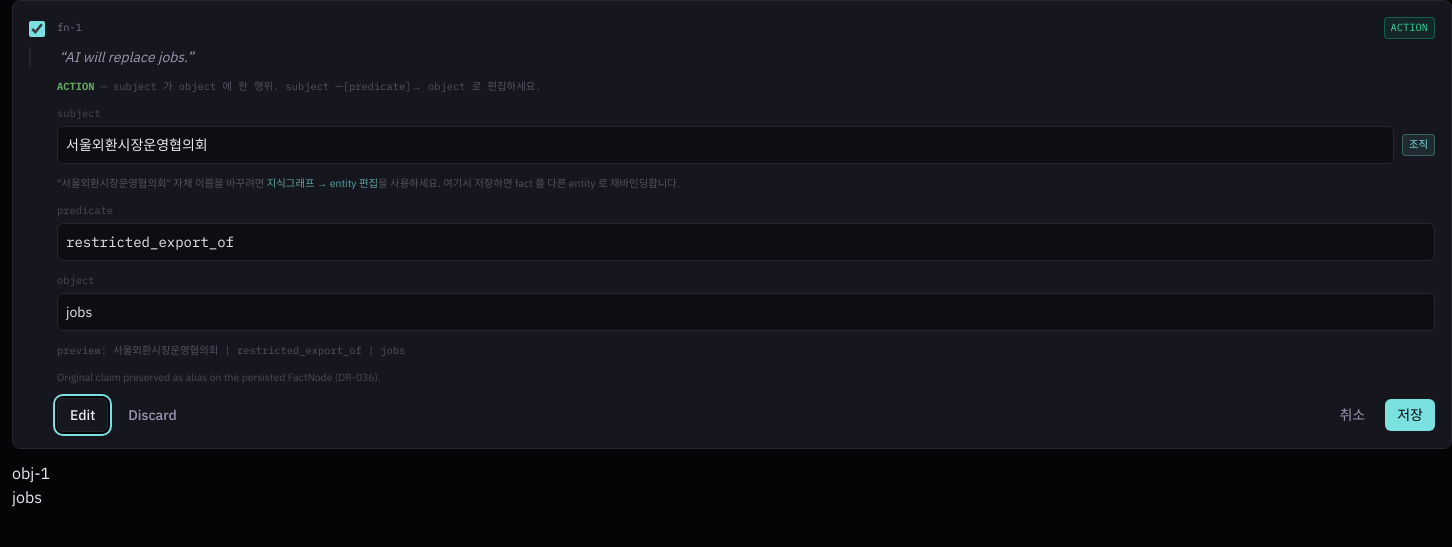
FactCard - decide-chip-click-bind: LIVE click path (parent re-renders) › LIVE object chip click: same fix on object side — input + uid preserved
Replace the text in the field with test id "fact-edit-object-fn-1" with "갈": (746, 312) [57,293,1435,331]
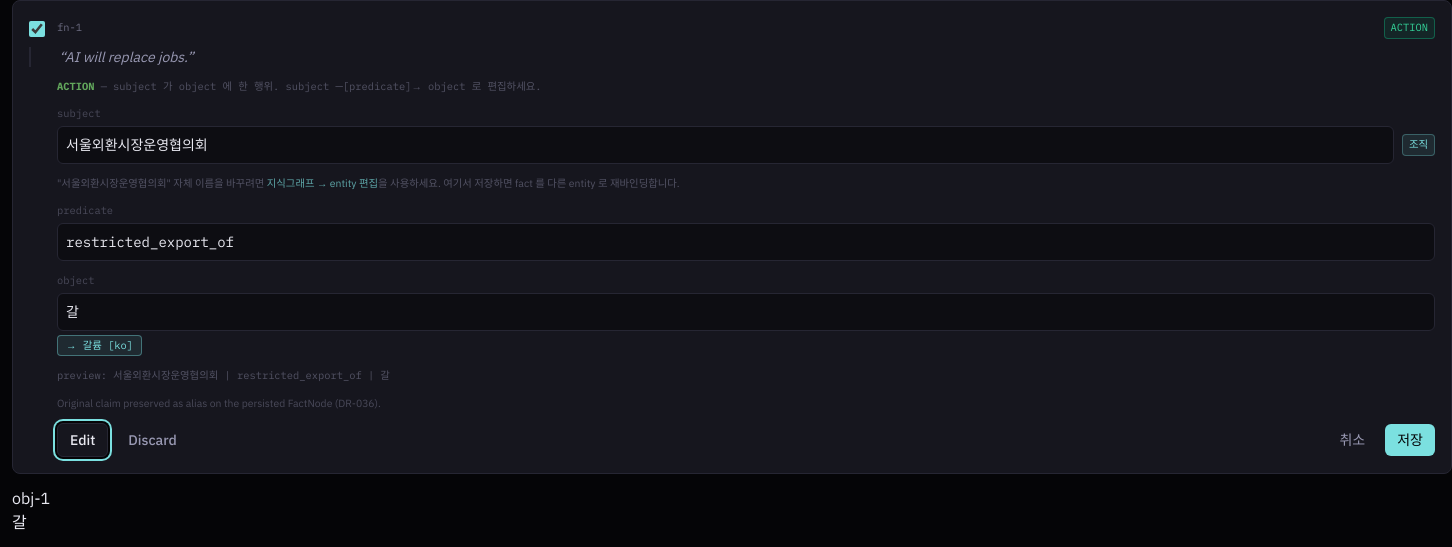
expect the button with test id "object-chip-uuid-gallium" is shown: met
Click the button with test id "object-chip-uuid-gallium": click(99, 346) [57,335,142,356]
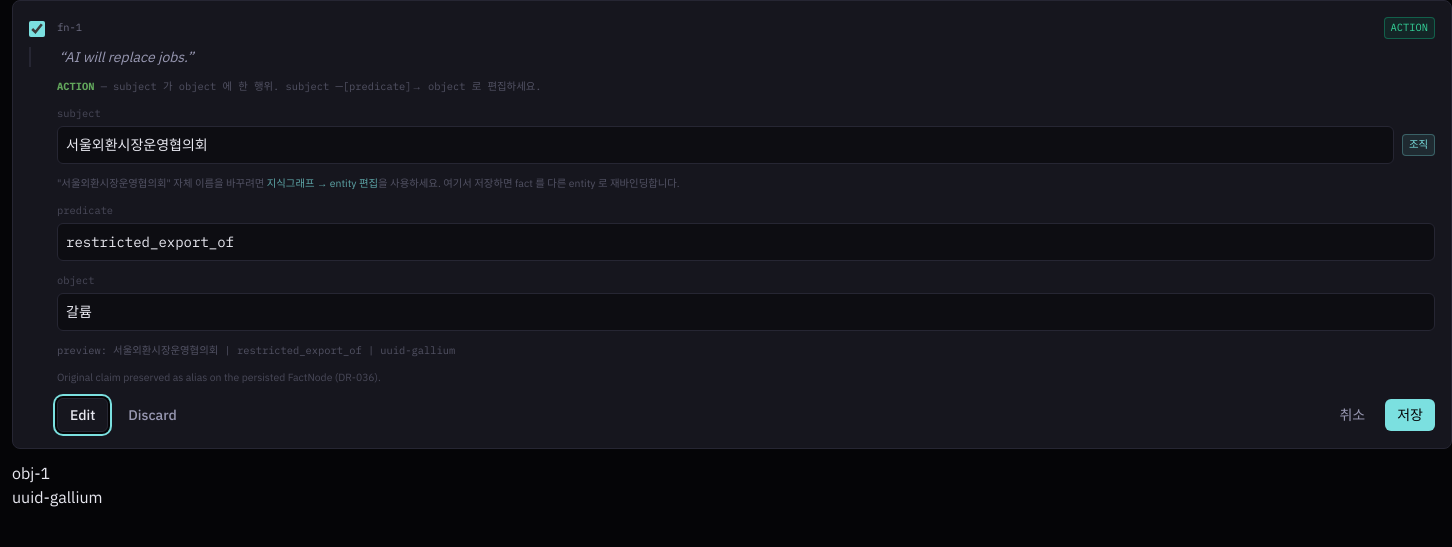
expect the field with test id "fact-edit-object-fn-1" holds "갈륨": met, box [57,293,1435,331]
expect the text with test id "parent-object-uid" reads "uuid-gallium": met, box [12,487,102,507]
